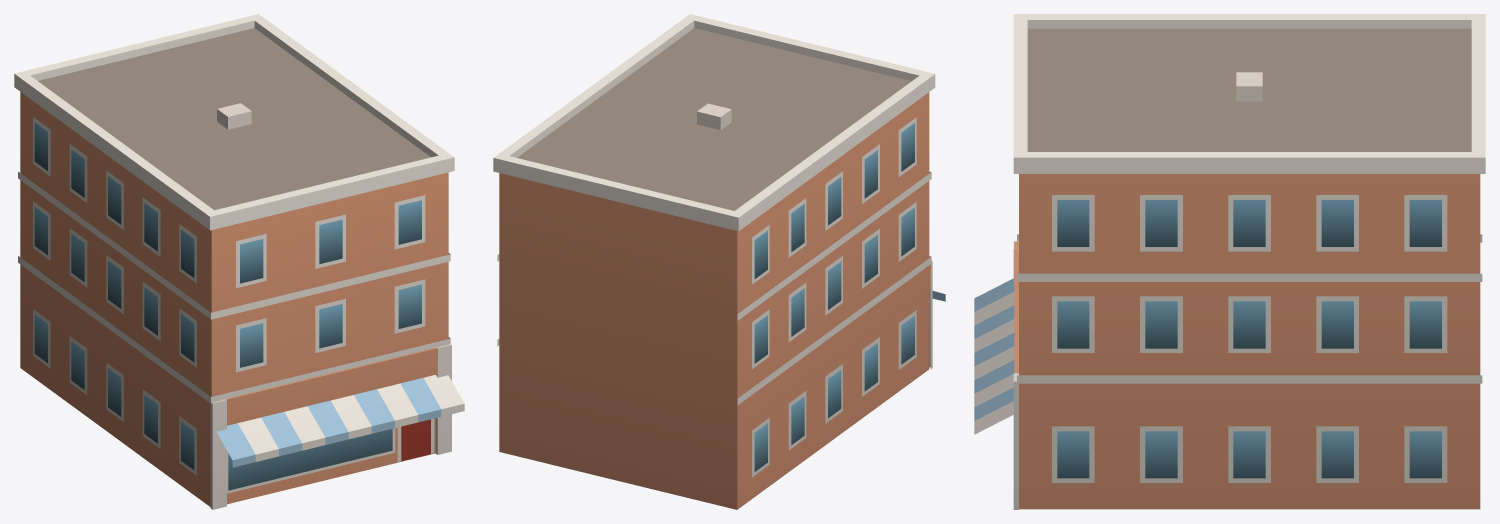
Rendered from boylston_s0_far.glb.
The picture shows the model from 3 angles, left to right: view 1: azimuth 30°, elevation 25°; view 2: azimuth 150°, elevation 25°; view 3: azimuth 270°, elevation 25°; orthographic projection. The views are drawn at different scales.
Visible parts, largest first — view 1: boylston_s0_far; view 2: boylston_s0_far; view 3: boylston_s0_far.
Part boxes in pixels (box(x1,y1,x2,y2)): boylston_s0_far: box(14, 14, 464, 509); boylston_s0_far: box(493, 14, 945, 509); boylston_s0_far: box(974, 14, 1485, 509).
Bounding box in the file's own units: 10.32 × 12.07 × 15.51.
1 material, 1 textured.
